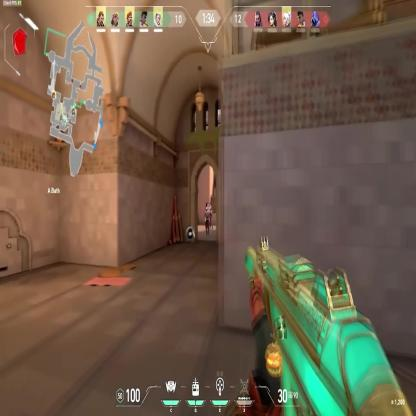enemy: (204, 204, 211, 235), (208, 204, 214, 230)
enemy_head: (206, 204, 209, 209), (209, 205, 212, 210)
